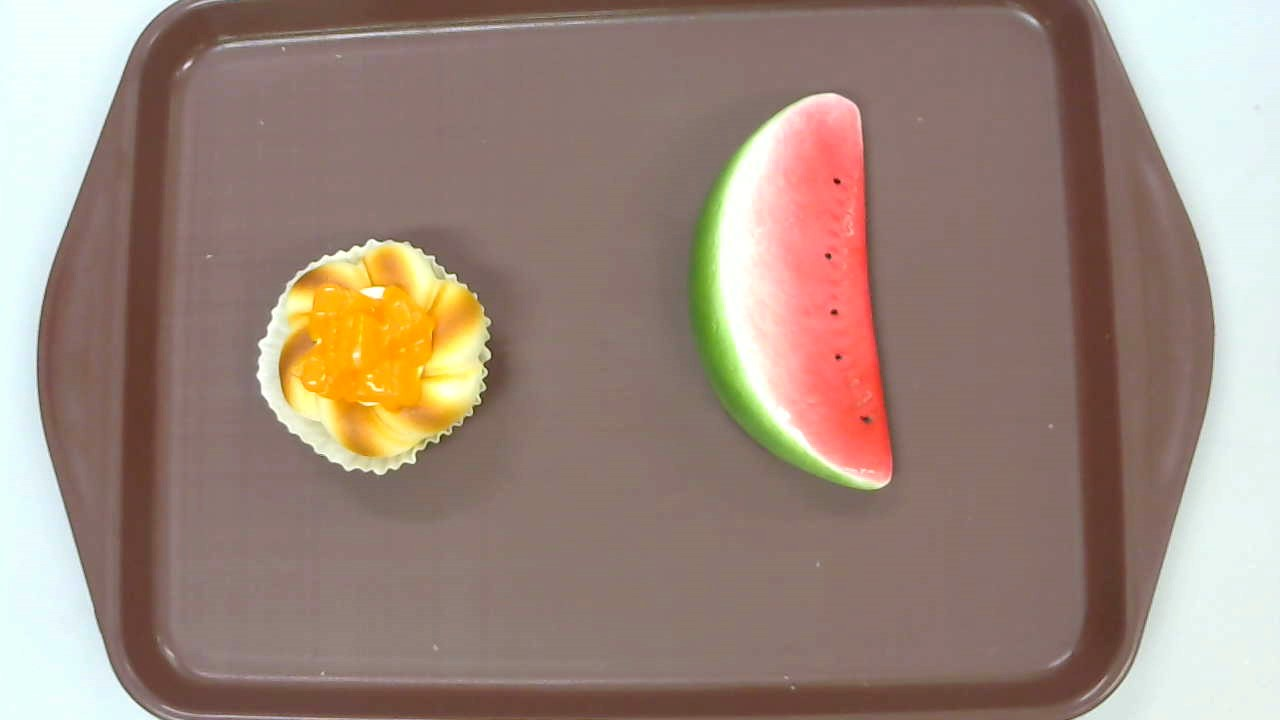mango tart: (256, 238, 492, 477)
water melon: (687, 93, 893, 491)
